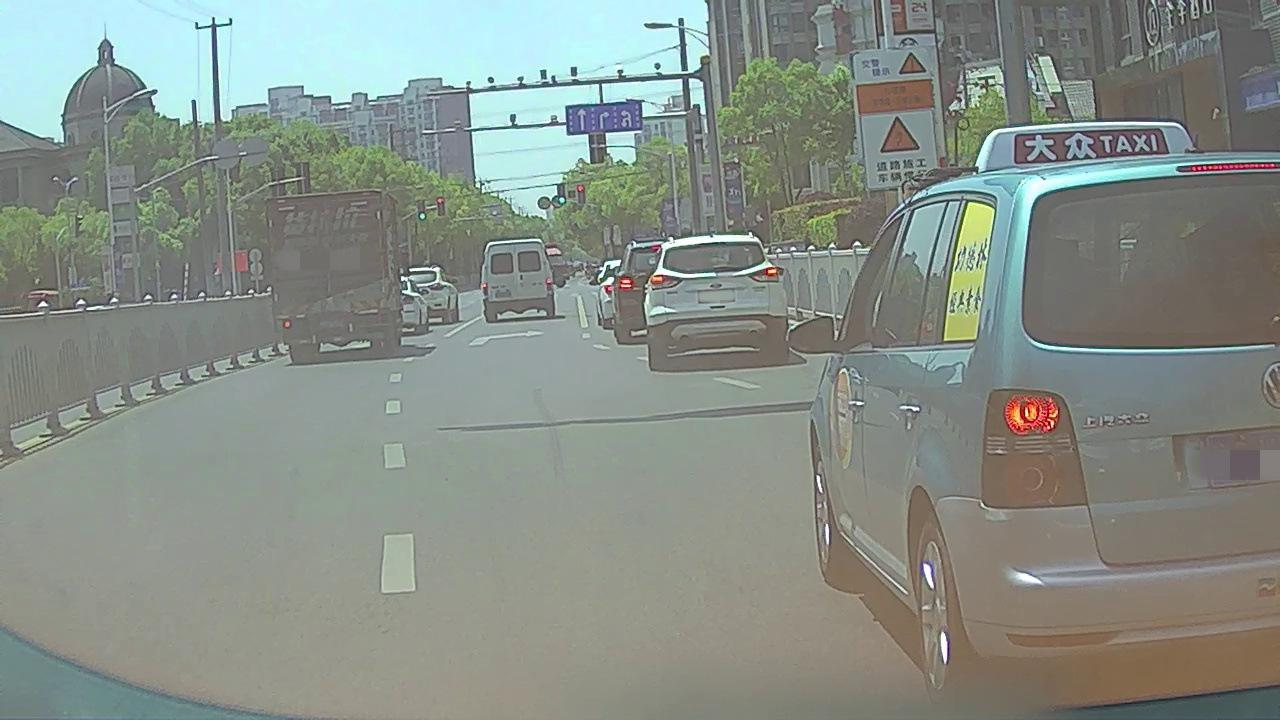traffic_light: (435, 196, 446, 216), (418, 199, 427, 221), (557, 184, 566, 205), (577, 183, 586, 203)
